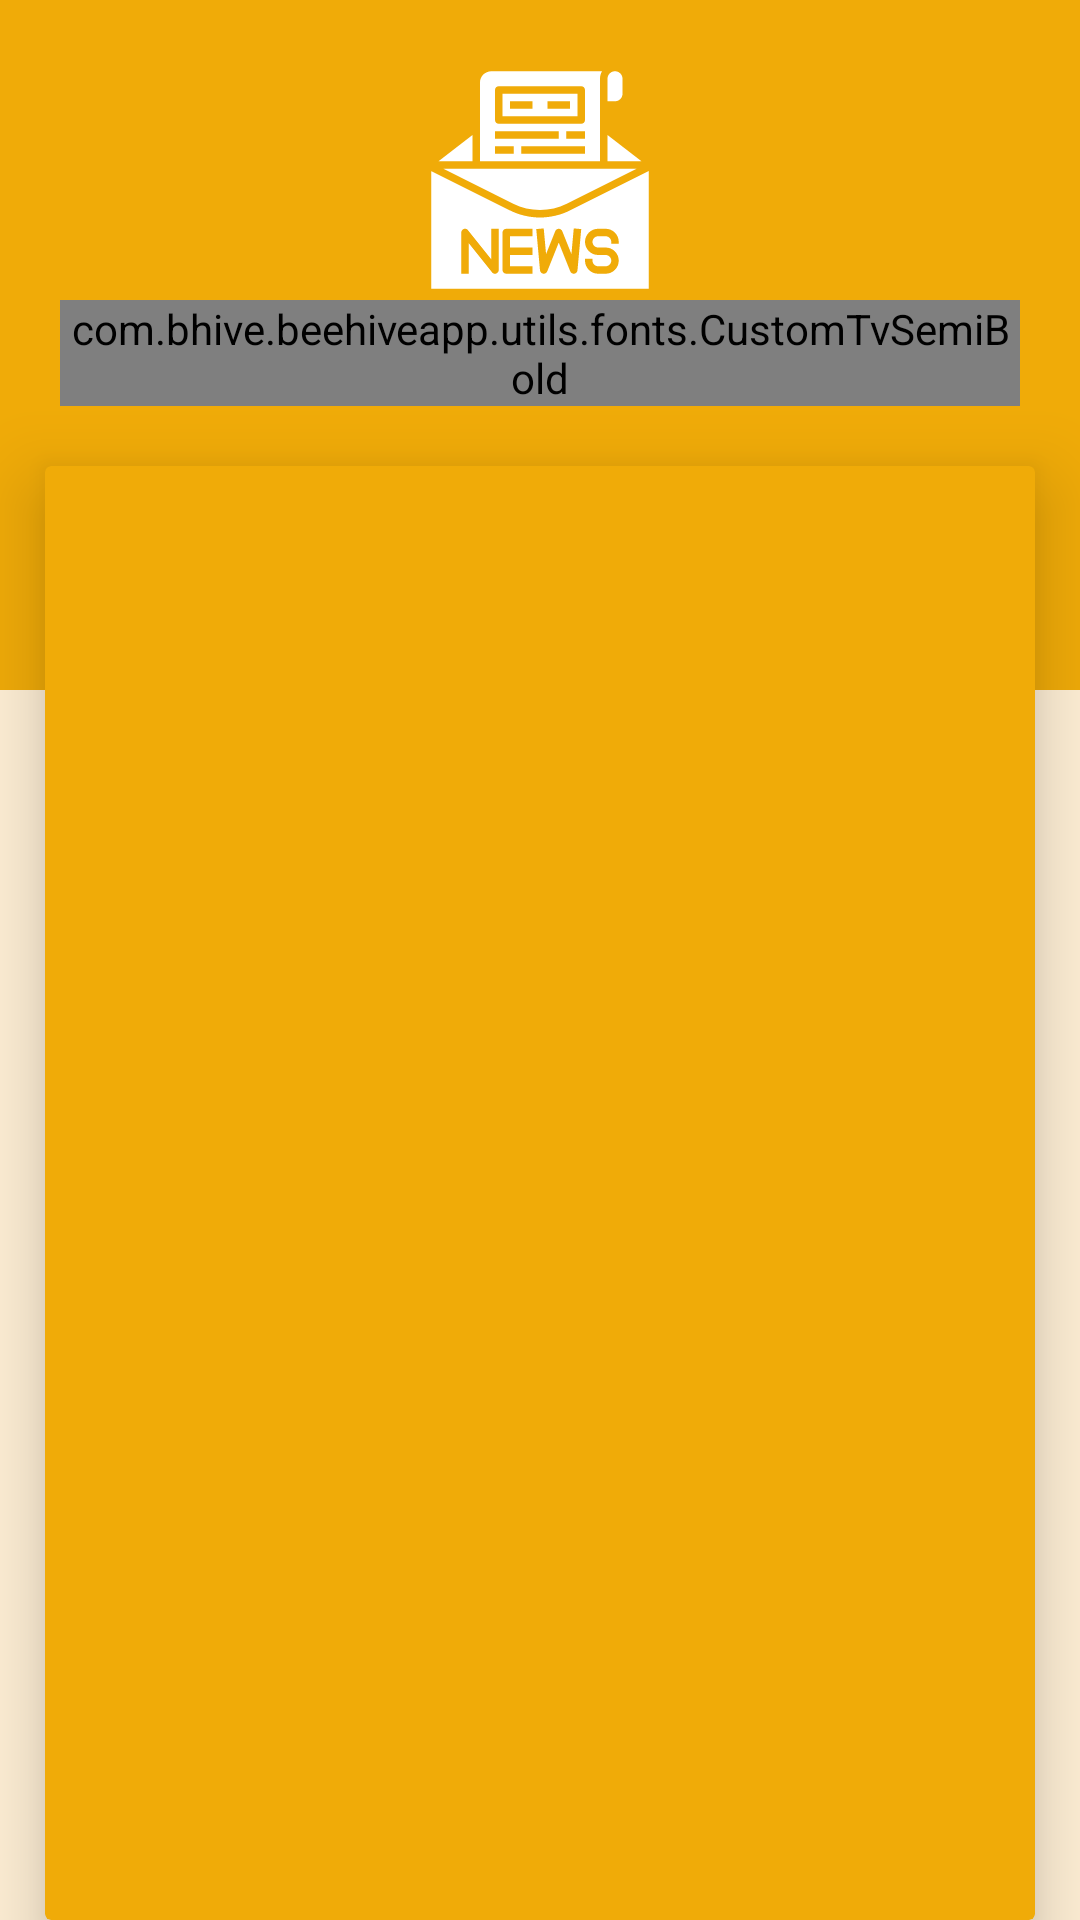

Icons on this 1080*1920 Android screen, each with its box as (x1, y1, x2, y2):
newsletter: (431, 71, 649, 289)
